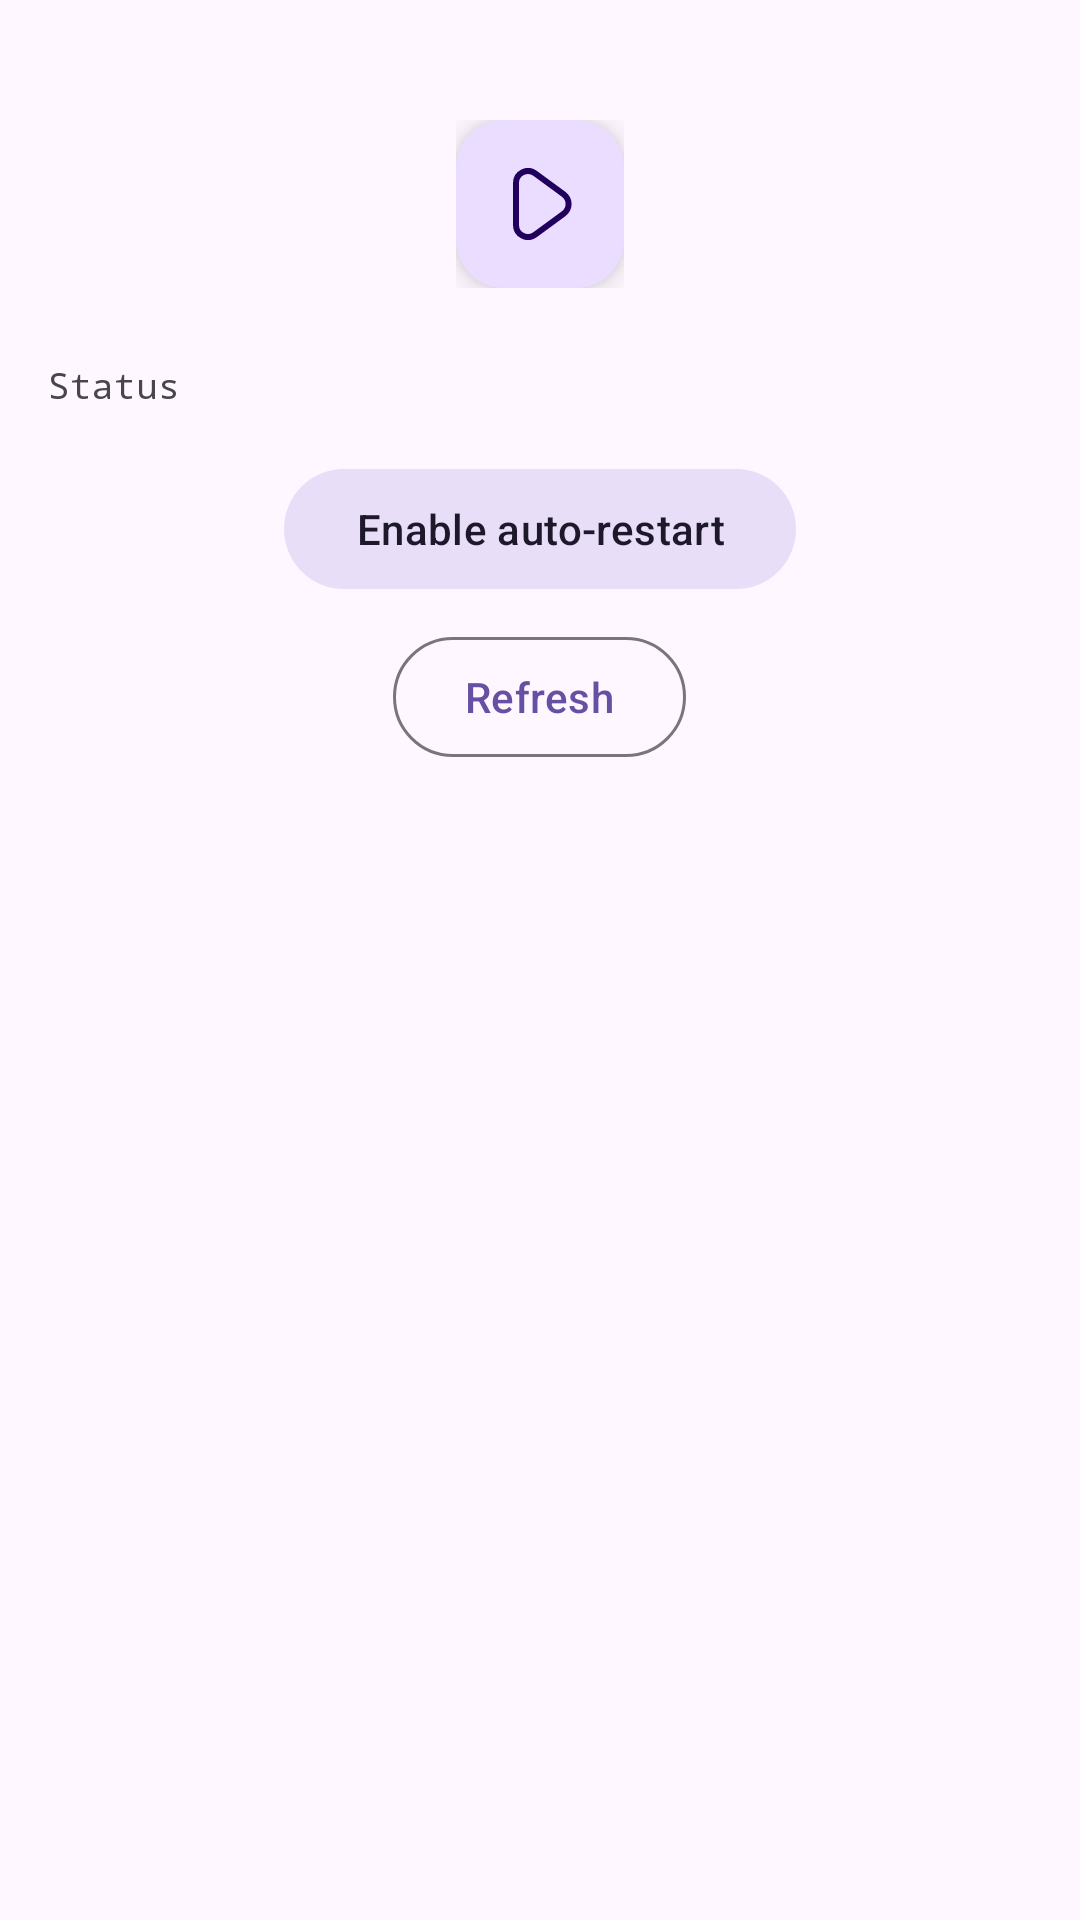

Where to tap for icons on this 1080px x 1920px app screen, as (x,y):
Start/Stop: (540,204)
